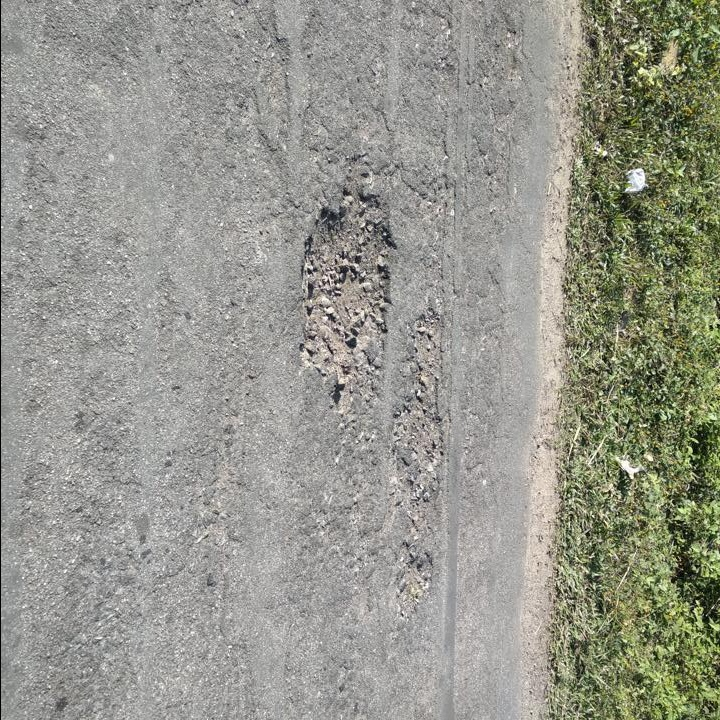pothole: (295, 178, 398, 395), (389, 302, 448, 523), (387, 536, 436, 626)
